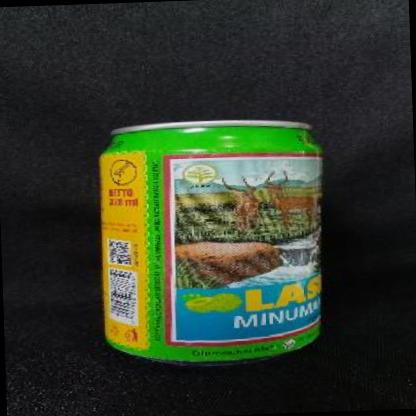alumunium_can: (96, 116, 331, 370)
